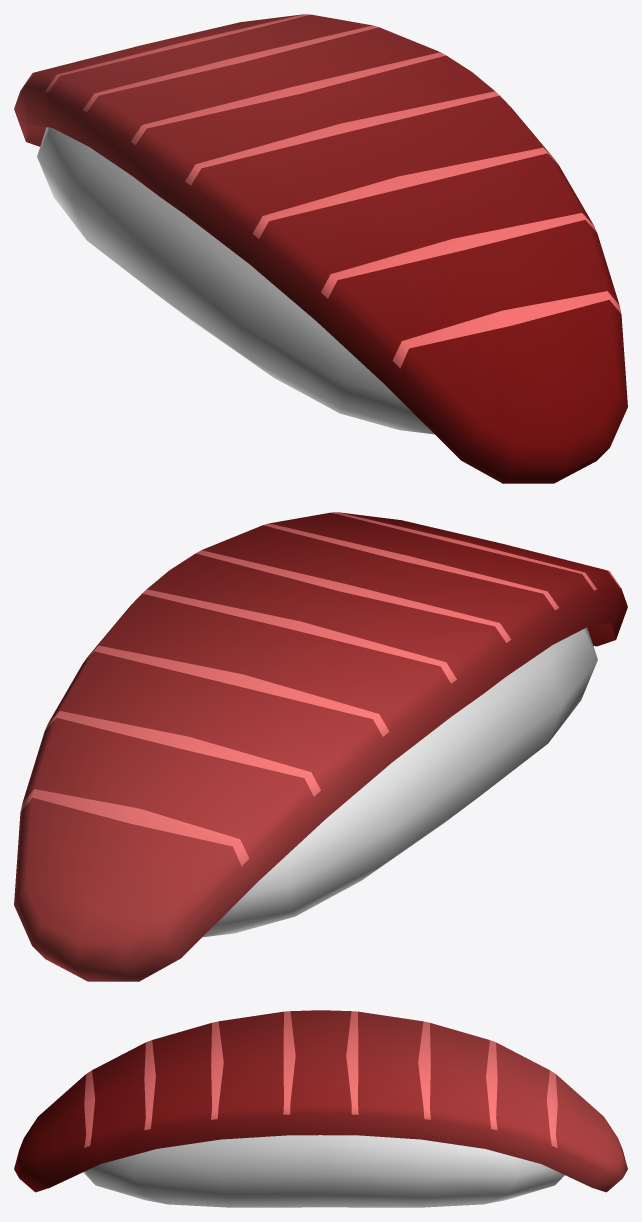
File: Sushi Food_9.fbx
3 renders of one model, top to bottom at view 1: azimuth 30°, elevation 25°; view 2: azimuth 150°, elevation 25°; view 3: azimuth 270°, elevation 25°, orthographic. The views are drawn at different scales.
Parts seen in each view (by area): view 1: Sushi Food_9; view 2: Sushi Food_9; view 3: Sushi Food_9.
Part boxes in pixels (left/top/right/bottom): Sushi Food_9: left=14, top=14, right=627, bottom=483; Sushi Food_9: left=14, top=512, right=627, bottom=981; Sushi Food_9: left=14, top=1010, right=627, bottom=1207.
Bounding box in the file's own units: 0.0448 × 0.0271 × 0.1116.
